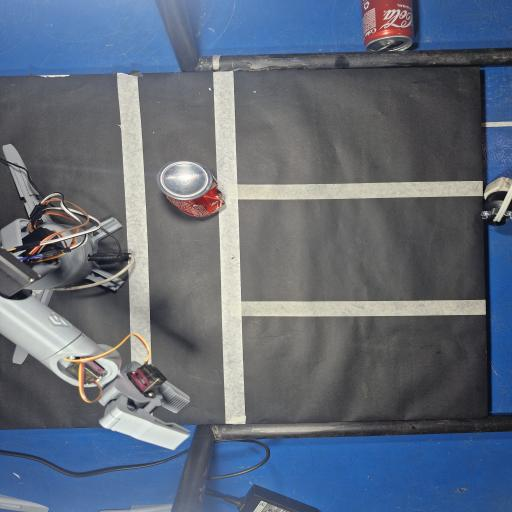lata_defectuoso: (157, 161, 224, 217)
